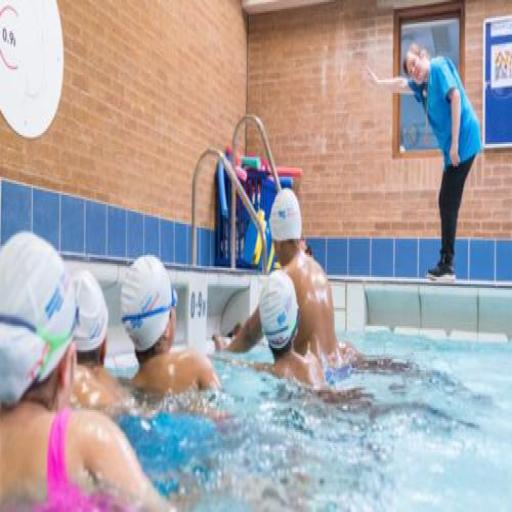swimming: (0, 228, 178, 510), (364, 38, 484, 286), (212, 186, 343, 377), (116, 251, 224, 412)
